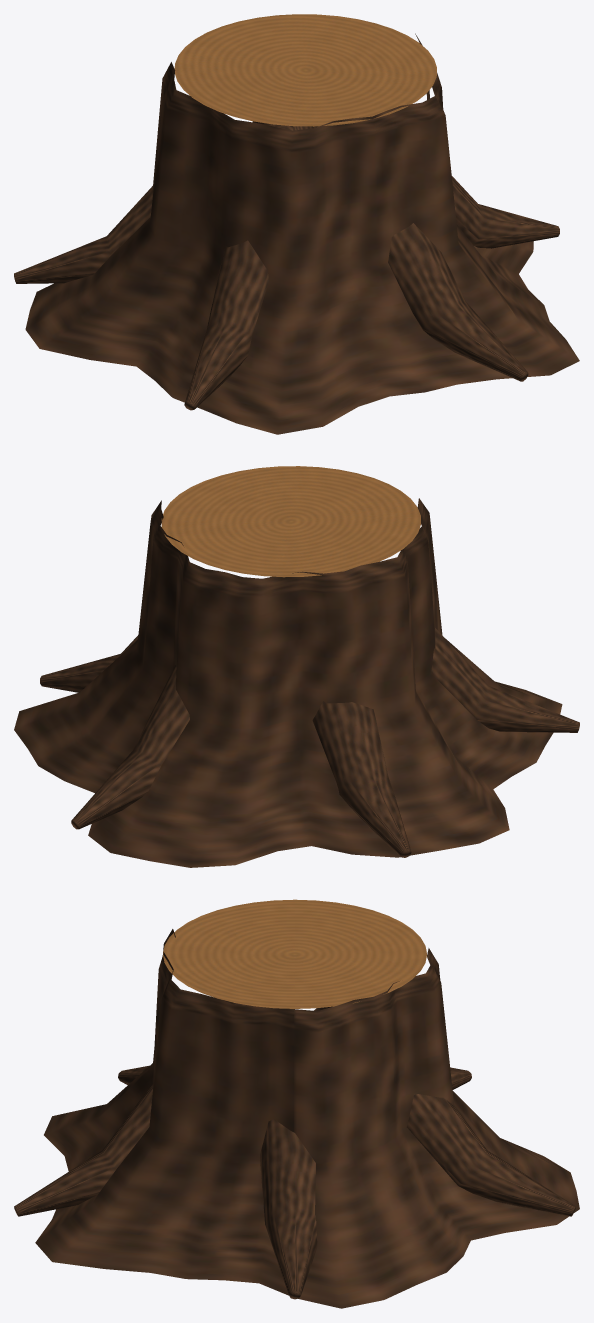
File: stump.glb
3 renders of one model, top to bottom at view 1: azimuth 30°, elevation 25°; view 2: azimuth 150°, elevation 25°; view 3: azimuth 270°, elevation 25°, orthographic.
Visible parts, largest first — view 1: stump; view 2: stump; view 3: stump.
Part boxes in pixels (bbox=[...]): stump: bbox=[14, 14, 579, 434]; stump: bbox=[14, 466, 579, 867]; stump: bbox=[14, 899, 579, 1308].
Size of the model in its own units: 0.92 by 0.428 by 0.92.
2 materials, 2 textured.
